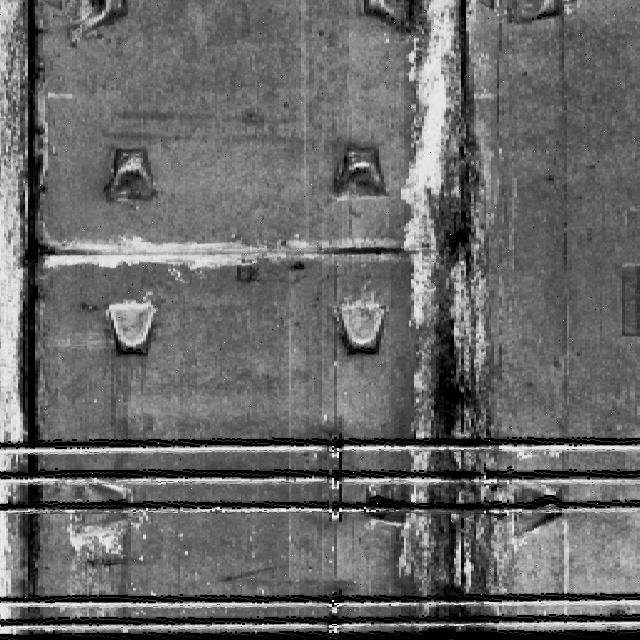leakage: (382, 0, 522, 637), (15, 0, 63, 605)
